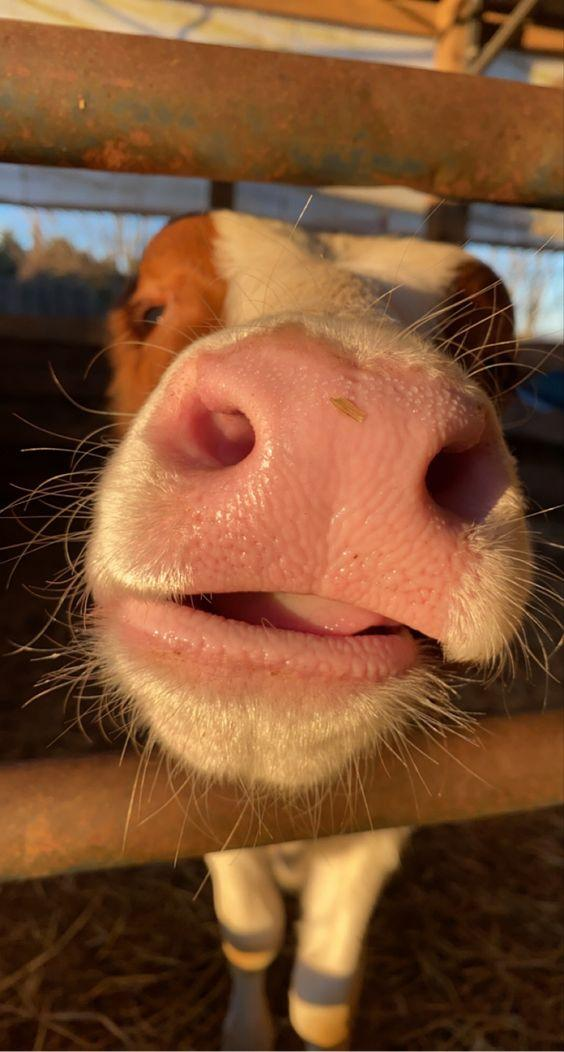cow: (80, 163, 550, 967)
